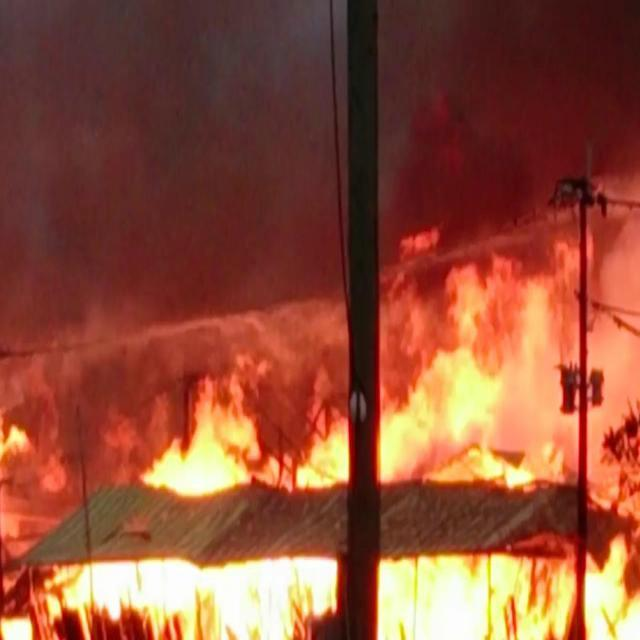Fire: (382, 188, 640, 486), (138, 350, 352, 498), (377, 532, 637, 638), (42, 554, 338, 638), (1, 417, 26, 459)
